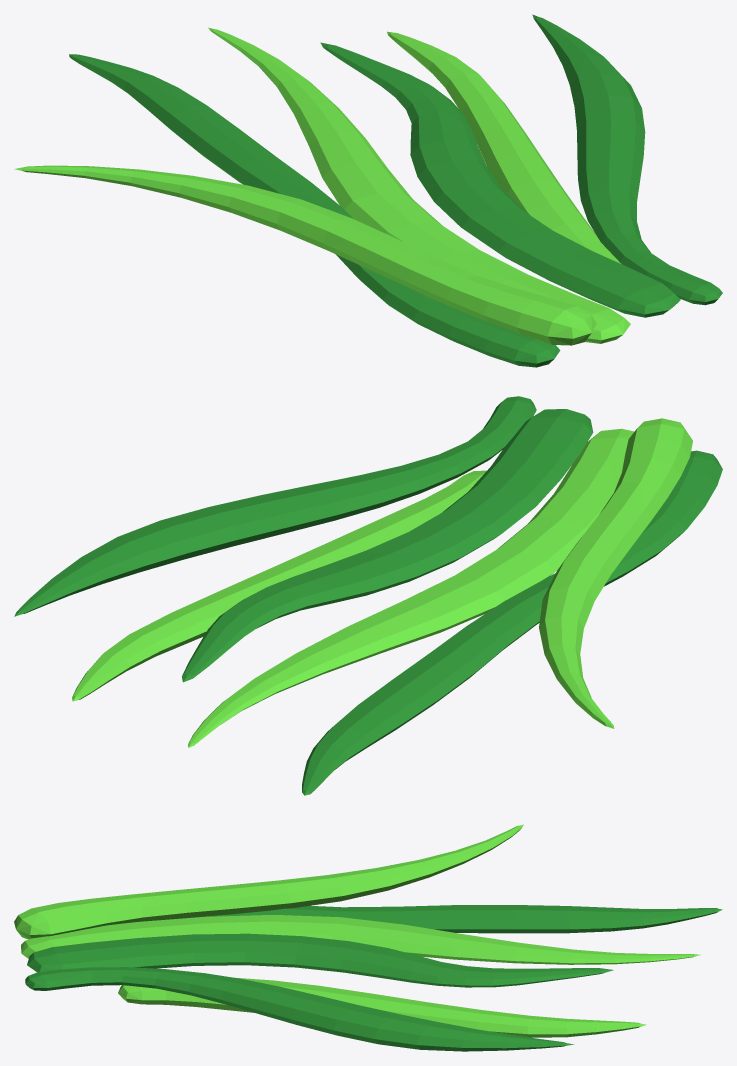
Rendered from SM_Grass_Bundle.fbx.
3 renders of one model, top to bottom at view 1: azimuth 30°, elevation 25°; view 2: azimuth 150°, elevation 25°; view 3: azimuth 270°, elevation 25°, orthographic. The views are drawn at different scales.
Parts seen in each view (by area): view 1: SM_GrassBundle; view 2: SM_GrassBundle; view 3: SM_GrassBundle.
Boxes of the visible parts, x1,y1,x2,y2 form: SM_GrassBundle: (14,14,722,367); SM_GrassBundle: (14,396,722,795); SM_GrassBundle: (14,824,722,1051).
Size of the model in its own units: 181 by 134 by 13.27.
